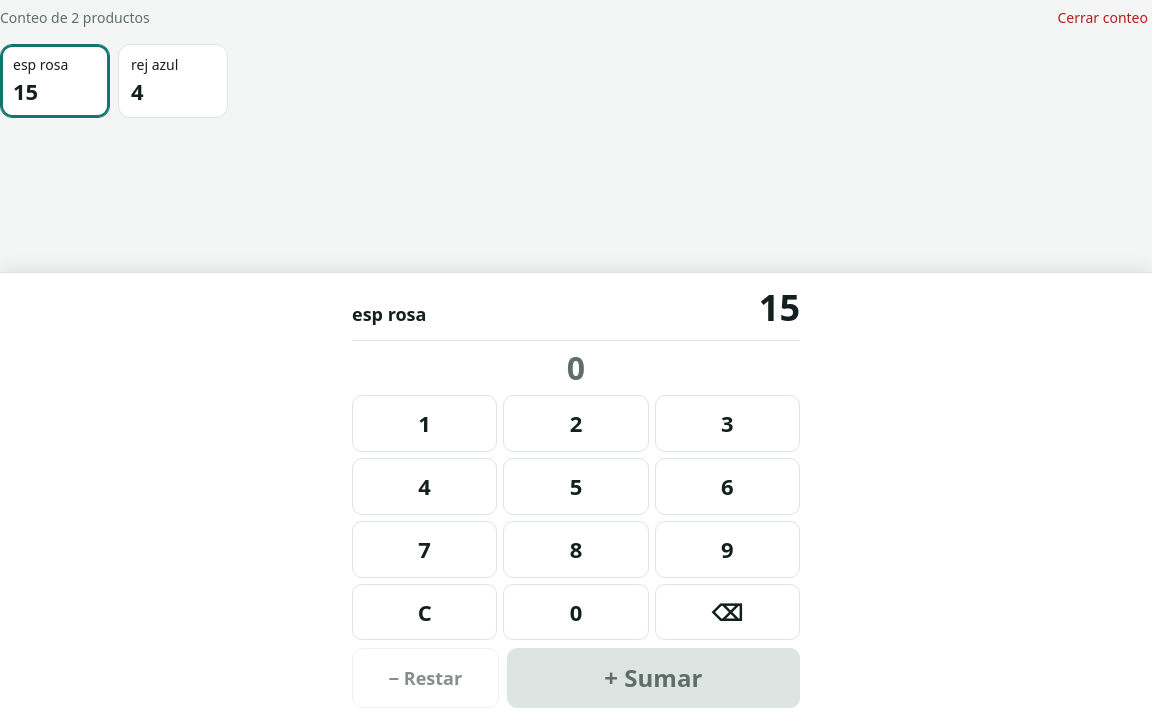
Test: Conteo · con un conteo abierto (teclado para una mano) › con 2 productos: se elige cuál contar arriba y Sumar va a ese
Click the tab "rej azul 4": (173, 81) [118,44,228,118]
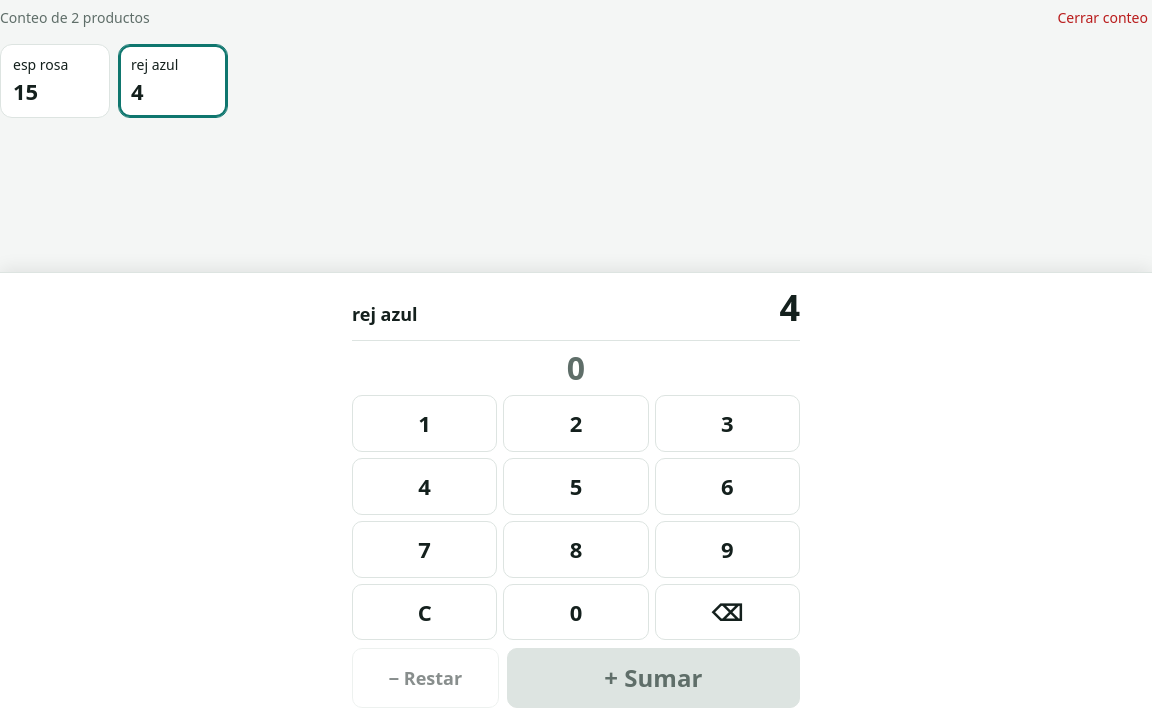
Click the button "3": (727, 424) [655,395,800,452]
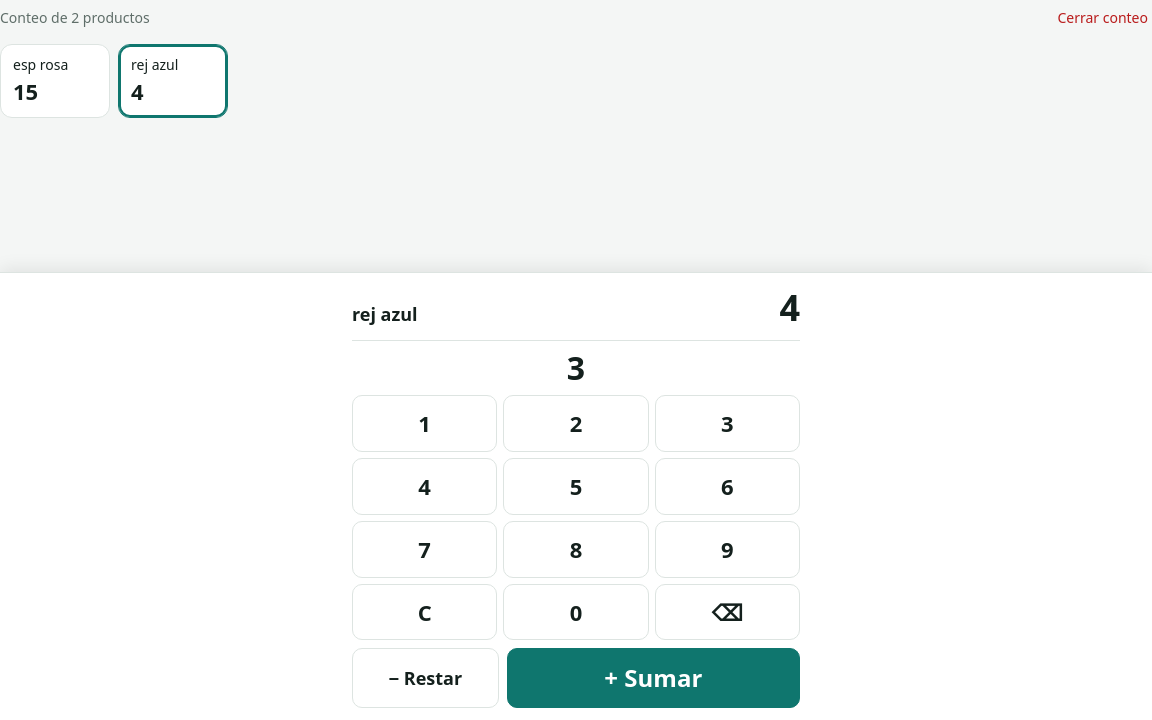
Click the button "+ Sumar": (653, 678) [507,648,800,708]
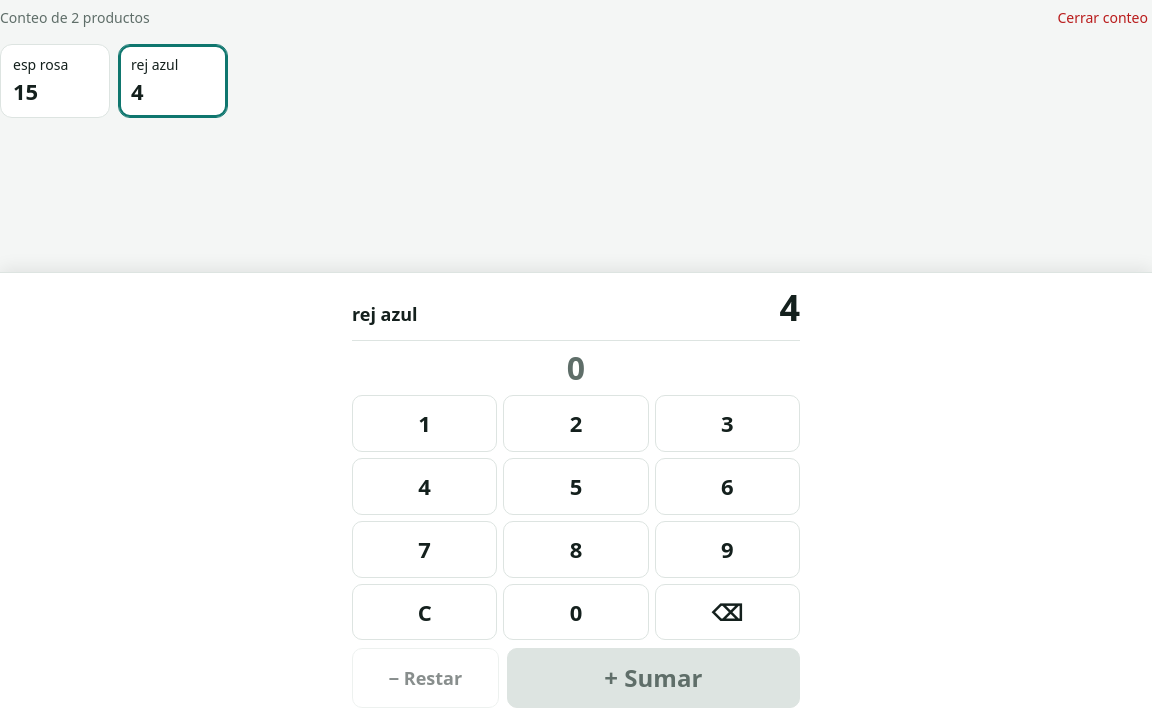
Click the button "Cerrar conteo": (1103, 18) [1053,0,1151,36]
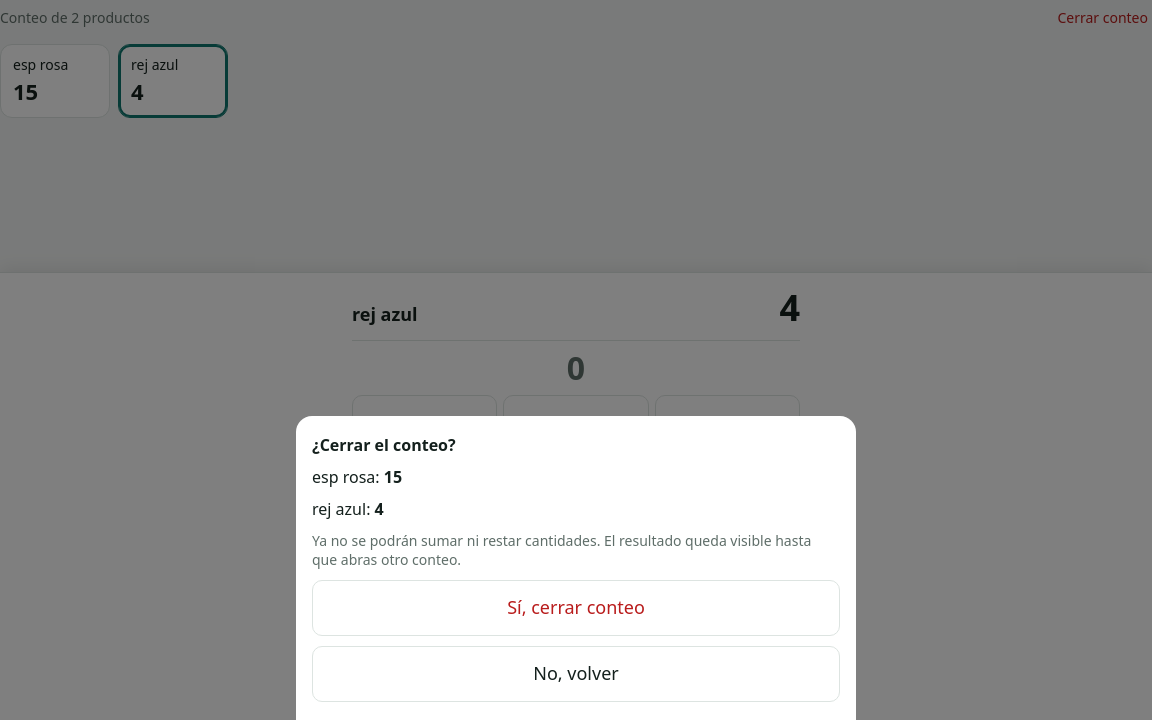
Check: the text "esp rosa: 15" is shown, box [312,466,402,488]
Check: the text "rej azul: 4" is shown, box [312,498,384,520]
